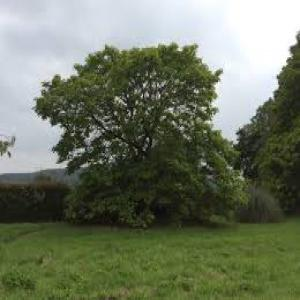Tree: (29, 36, 248, 232)
